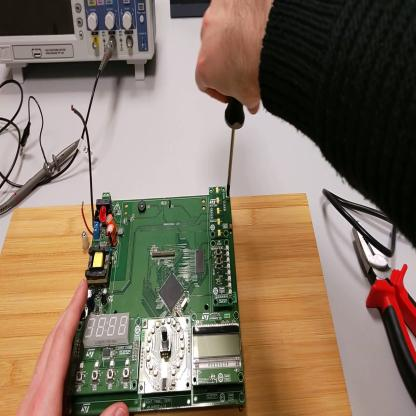hand: (21, 277, 130, 416), (195, 3, 278, 112)
low voltage board: (64, 105, 248, 415)
oscilloscope: (2, 1, 158, 84)
oscilloscope probe tip: (2, 137, 80, 216)
pliers: (353, 223, 416, 404)
screwdriver-: (226, 90, 245, 195)
working area: (2, 194, 353, 413)
